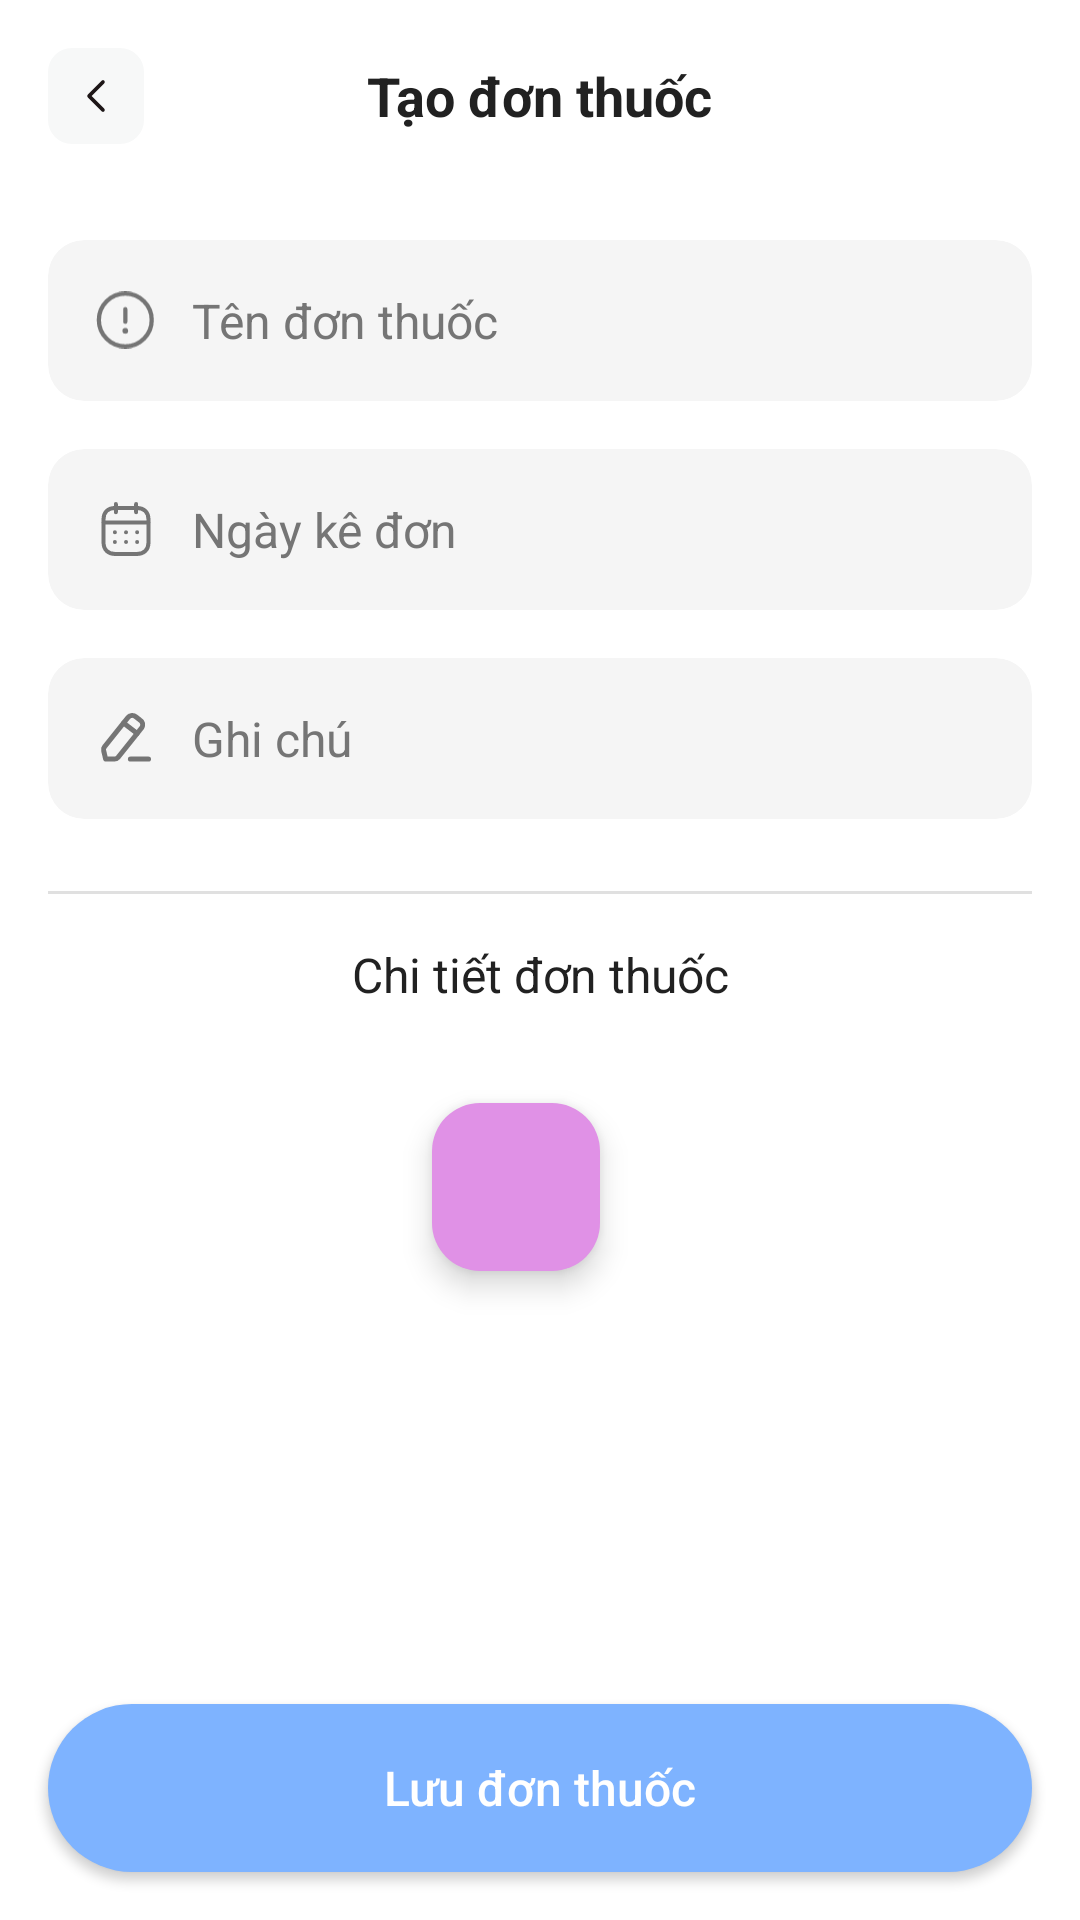

Icon bounding boxes for this 1080px×1920px phone screenshot, format Rect(x1, y1, x2, y2):
back: Rect(87, 80, 105, 112)
calendar: Rect(101, 502, 151, 556)
edit: Rect(101, 713, 151, 762)
info: Rect(96, 291, 154, 349)
